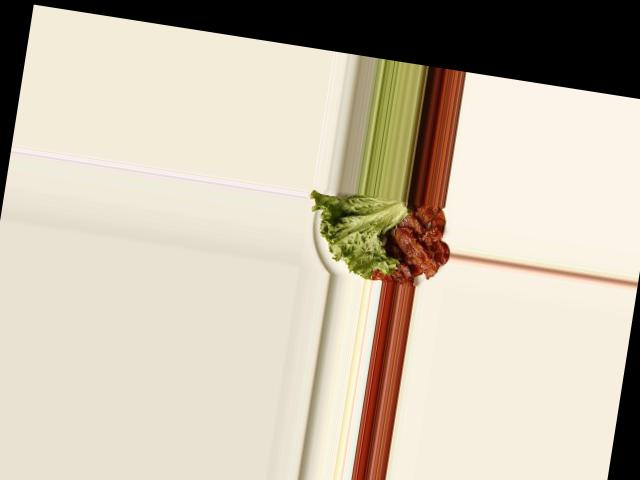lettuce: (304, 186, 408, 281)
